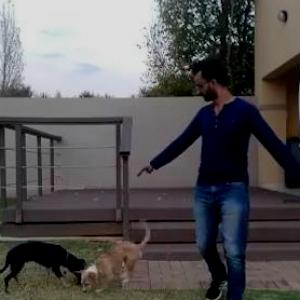land: (108, 34, 299, 299)
